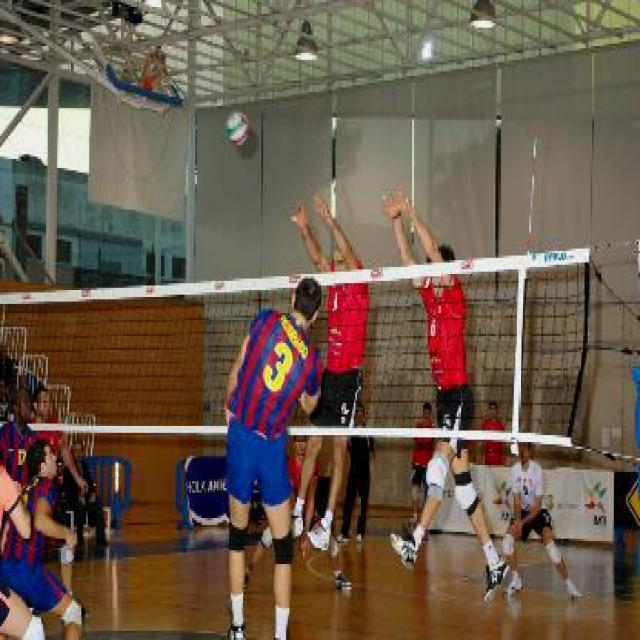volleyball: (223, 112, 251, 150)
